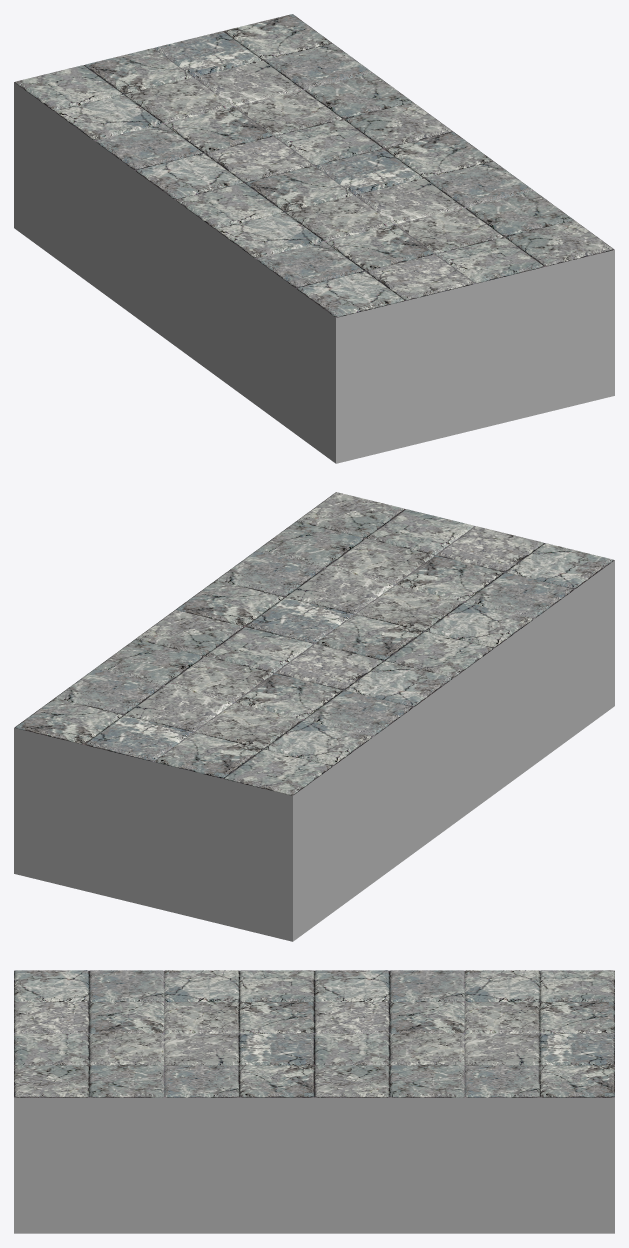
The model's file is Floor_half_2m.gltf.
The picture shows the model from 3 angles, top to bottom: view 1: azimuth 30°, elevation 25°; view 2: azimuth 150°, elevation 25°; view 3: azimuth 270°, elevation 25°; orthographic projection. The views are drawn at different scales.
Visible parts, largest first — view 1: Floor_half_2m; view 2: Floor_half_2m; view 3: Floor_half_2m.
Boxes of the visible parts, x1=… form: Floor_half_2m: x1=14, y1=14, x2=614, y2=463; Floor_half_2m: x1=14, y1=492, x2=614, y2=941; Floor_half_2m: x1=14, y1=970, x2=614, y2=1233.
Bounding box in the file's own units: 4 × 2.03 × 8.
